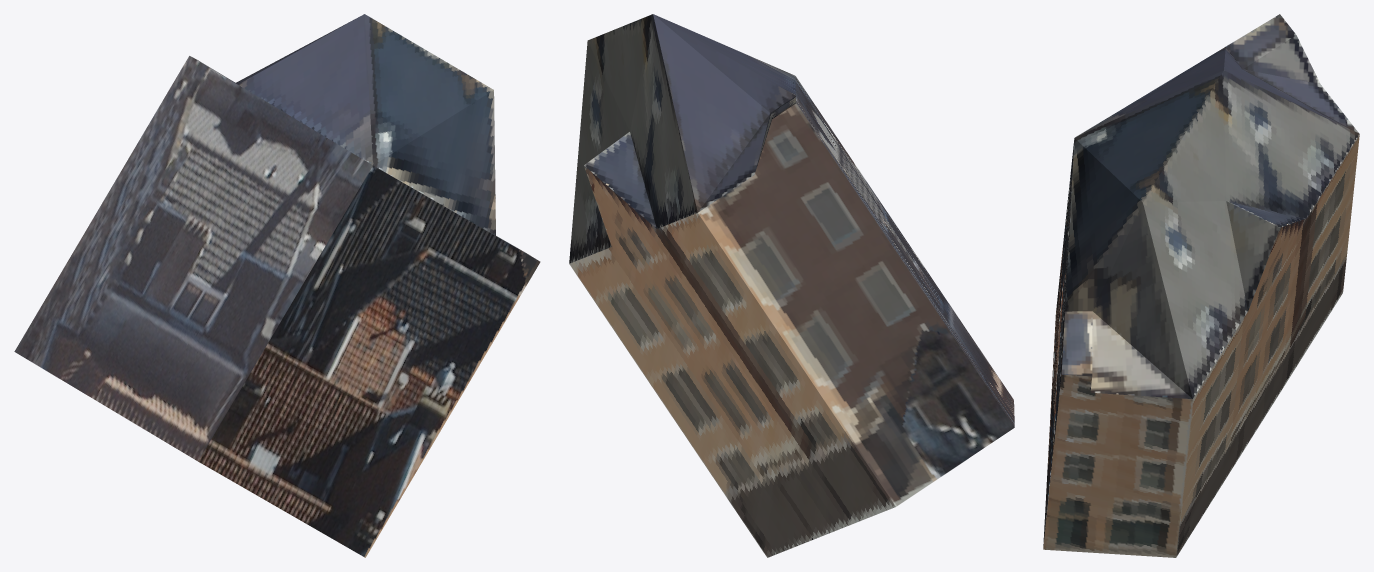
The picture shows the model from 3 angles, left to right: view 1: azimuth 30°, elevation 25°; view 2: azimuth 150°, elevation 25°; view 3: azimuth 270°, elevation 25°; orthographic projection. The views are drawn at different scales.
Visible parts, largest first — view 1: BAG_0599100000671566 (×4); view 2: BAG_0599100000671566 (×6); view 3: BAG_0599100000671566 (×6).
Part boxes in pixels (x1,y1,x2,y2): BAG_0599100000671566 (×4): (14, 14, 540, 557); BAG_0599100000671566 (×6): (569, 14, 1014, 557); BAG_0599100000671566 (×6): (1043, 14, 1359, 557).
Size of the model in its own units: 20.11 by 20.77 by 11.22.
1 material, 1 textured.
